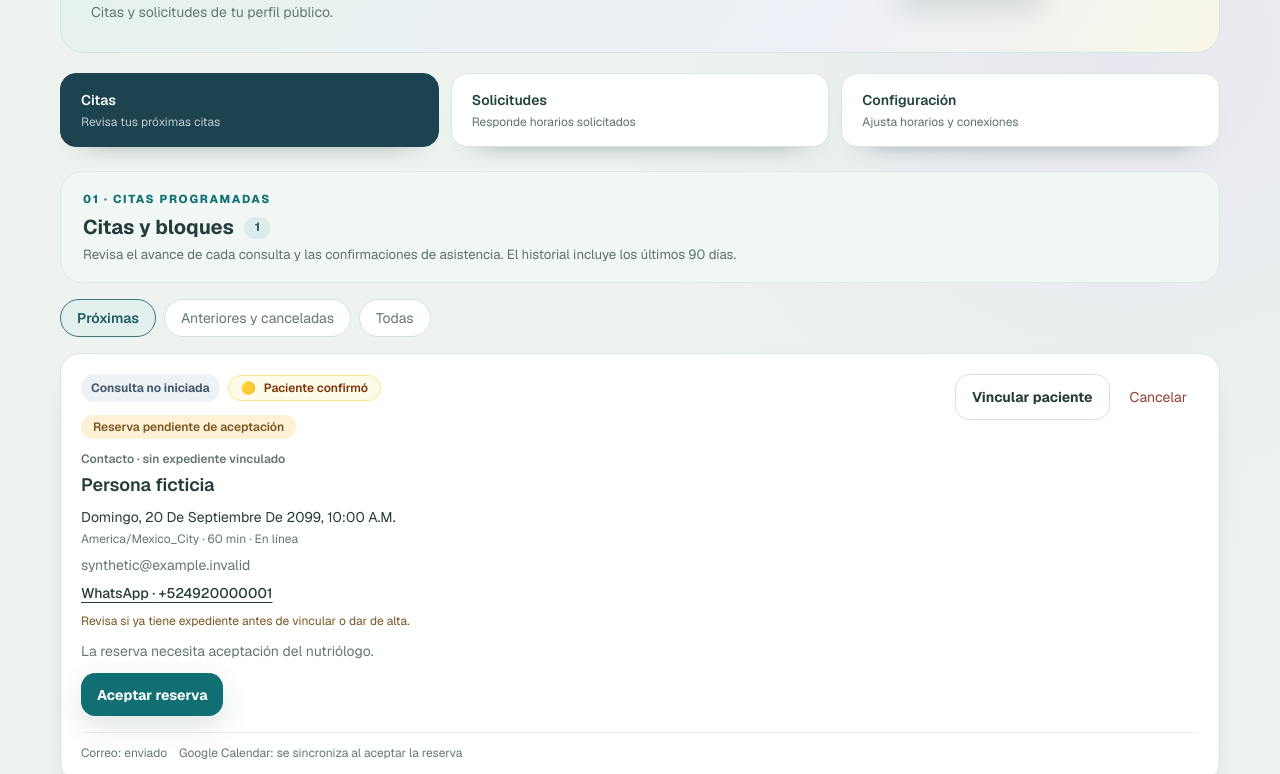
Test case: private agenda › confirms a pending reservation from its shared action
(page scrolled)
Check: the text "Reserva pendiente de aceptación" is shown, box x1=81 y1=416 x2=296 y2=440
Check: the element named "Confirmación: Paciente confirmó" is shown, box x1=228 y1=376 x2=381 y2=402
Click the button "Aceptar reserva" at (152, 695), box x1=81 y1=674 x2=224 y2=716
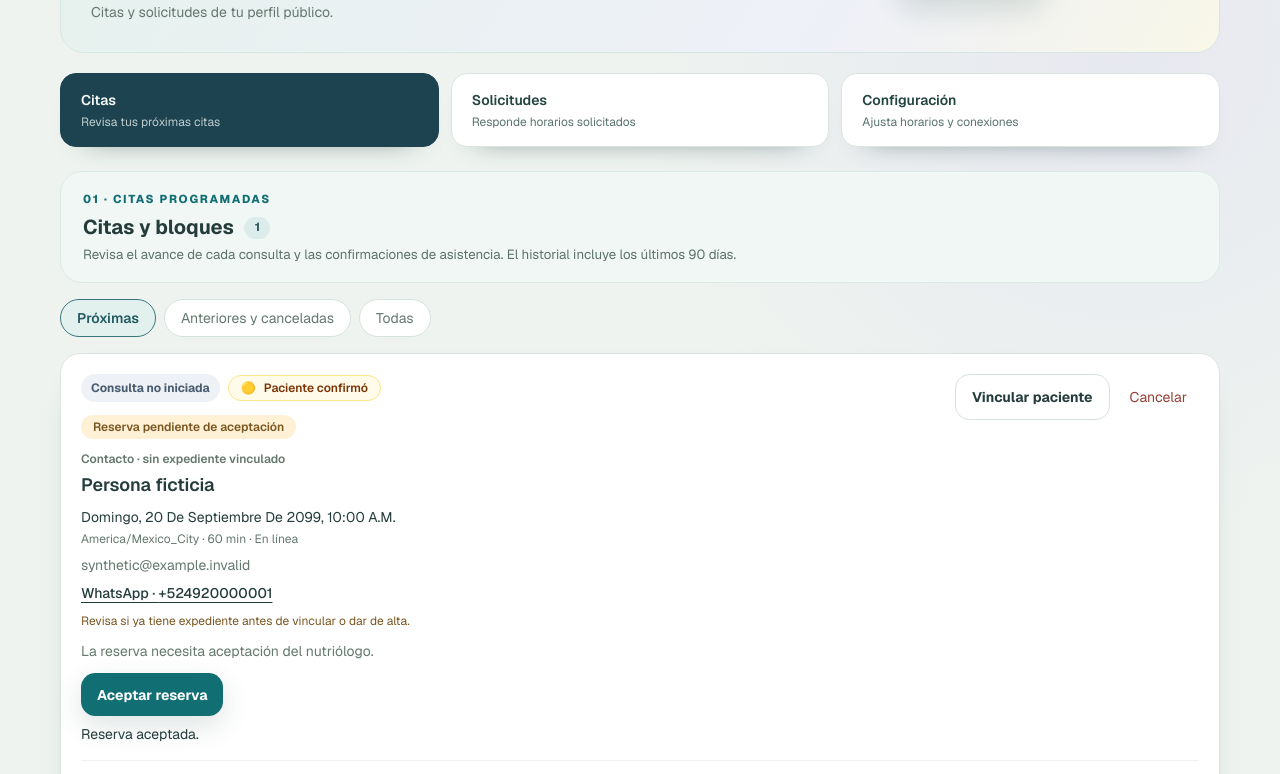
Check: the text "Reserva aceptada." is shown, box x1=81 y1=726 x2=199 y2=744
